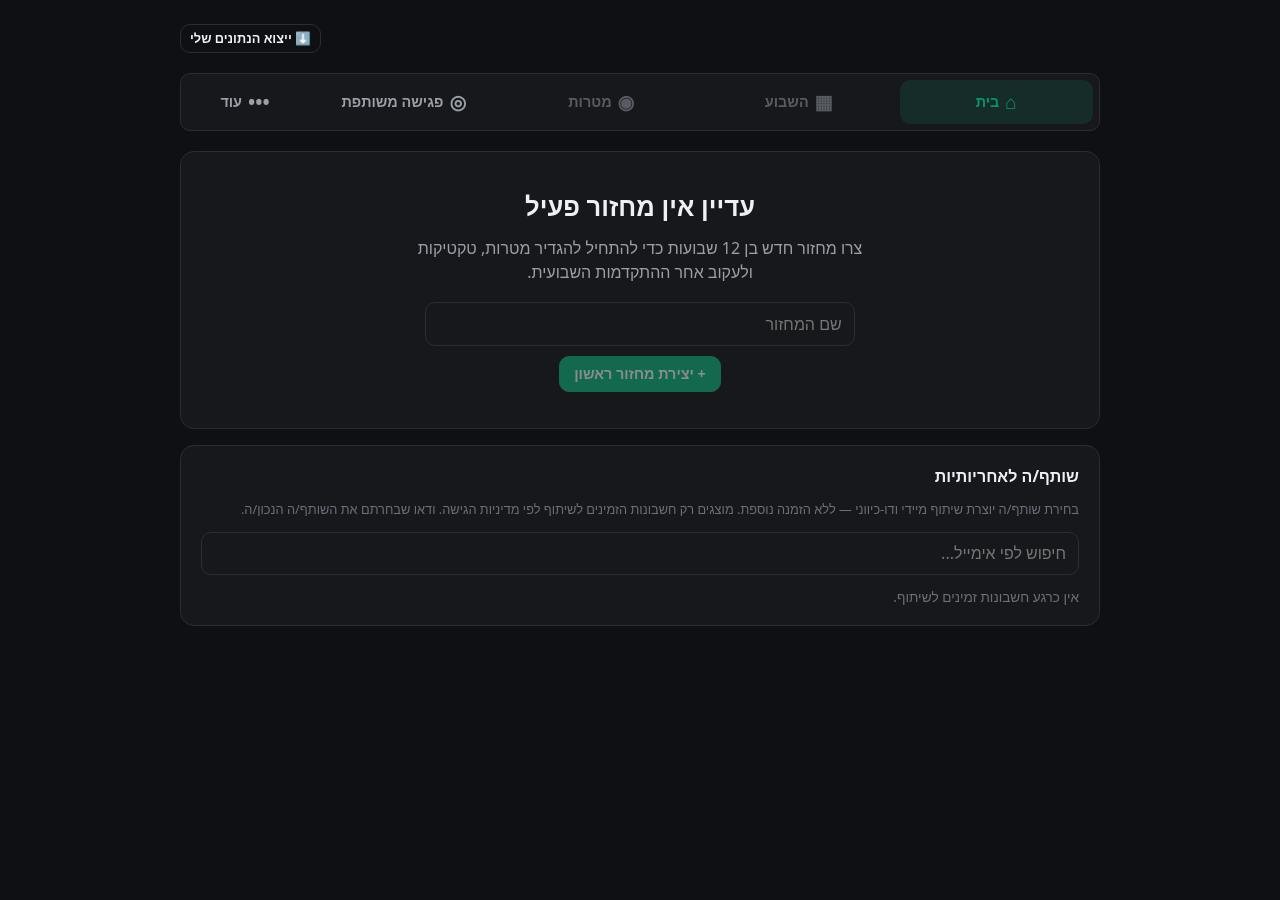
Test: DashboardPage: cycle status cards are scoped to Home (and cycle-dependent tabs) › the Profile nav button is enabled even though it requires no cycle
This screenshot has width=1280, height=900.
Expected: the heading "עדיין אין מחזור פעיל" is shown, [525,188,755,226]
Click the button "••• עוד" at (245, 102), box [187,80,303,124]
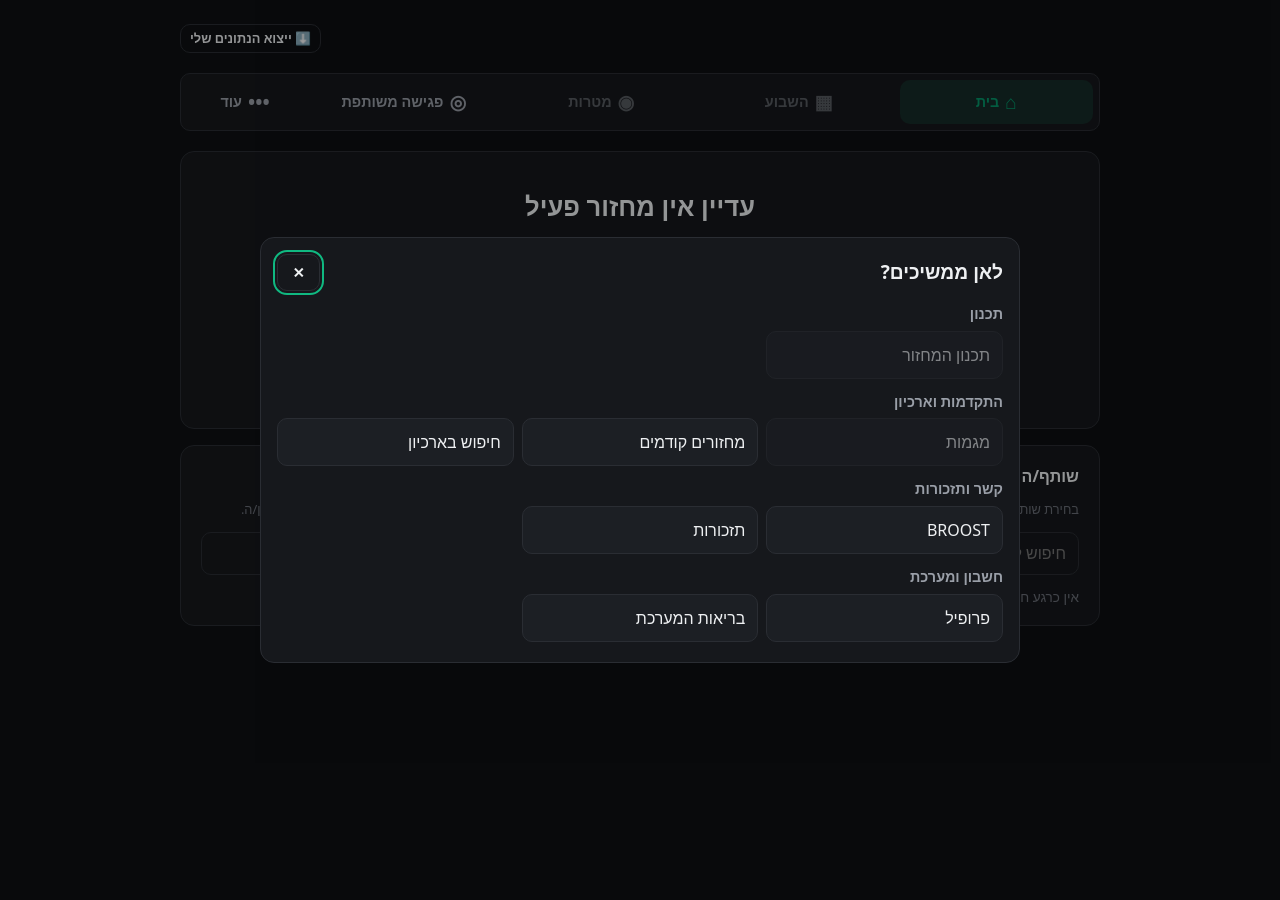
Expected: the button "◉ מטרות" is disabled, [505,80,698,124]
Expected: the button "פרופיל" is enabled, [766,594,1003,642]
